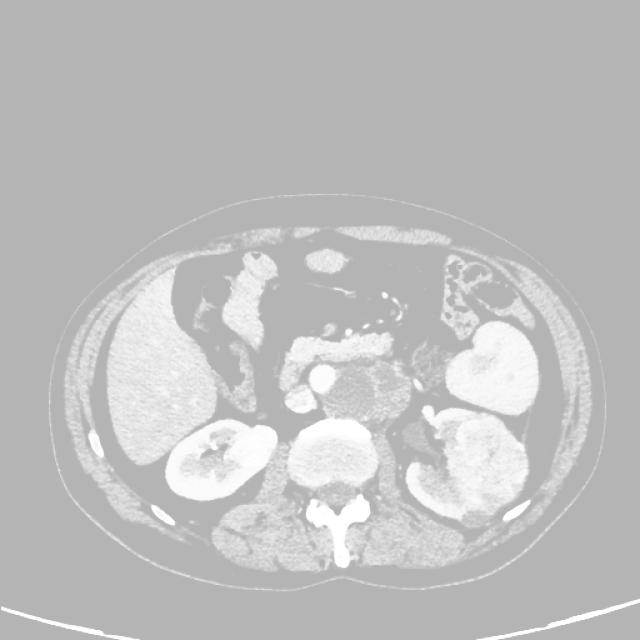TUMOR: (186, 250, 483, 410)
